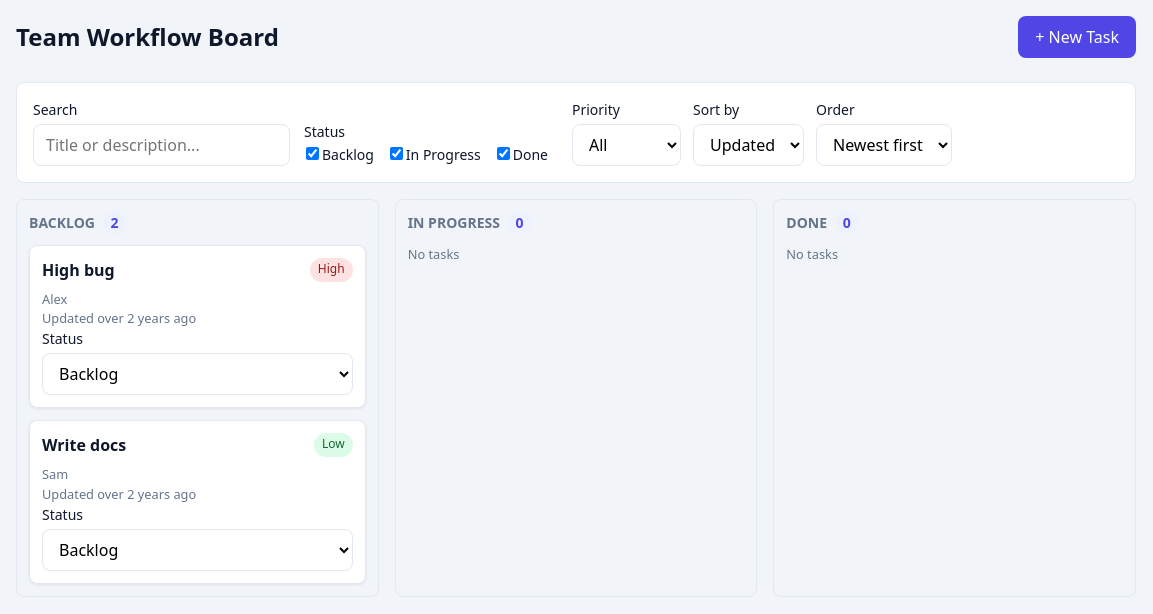
filters › filters by priority
Expected: the text "High bug" is shown, top-left (42, 258), bottom-right (115, 282)
Select "High" in the dropdown labelled "Priority". click: (626, 145)
box: top-left (572, 124), bottom-right (681, 166)
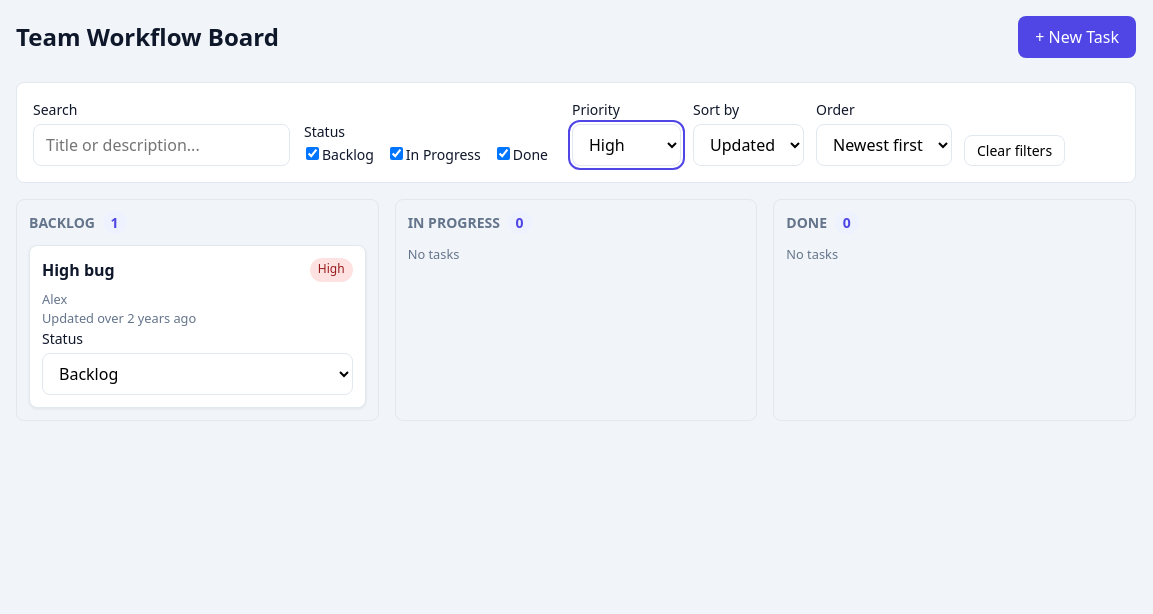
Expected: the text "High bug" is shown, top-left (42, 258), bottom-right (115, 282)
Result: the text "Write docs" is gone
